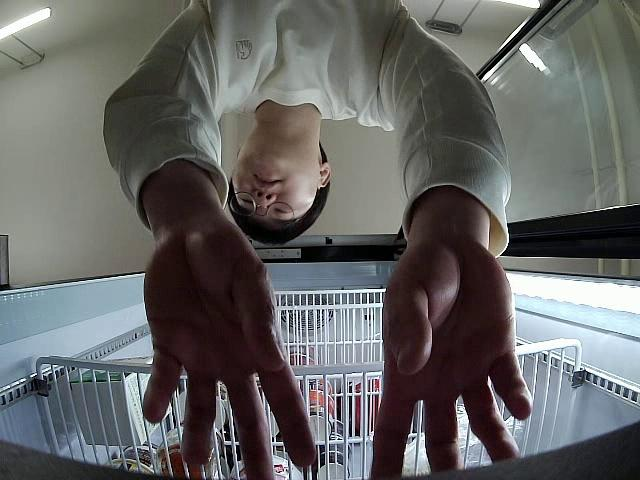00_hand: (139, 218, 316, 480), (367, 238, 534, 480)
